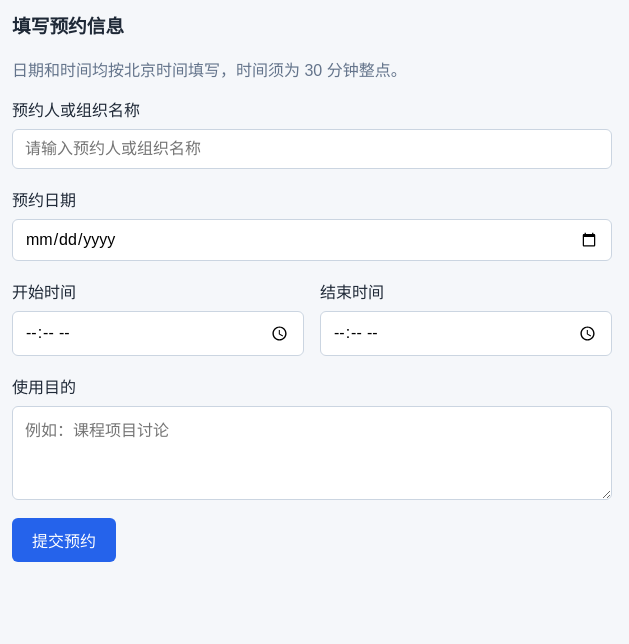
Test: ReservationForm › shows API fieldErrors under the matching inputs
Type "学习小组" into the field with id "bookerName".
click(312, 149); type("学习小组")  # box [12, 129, 612, 169]
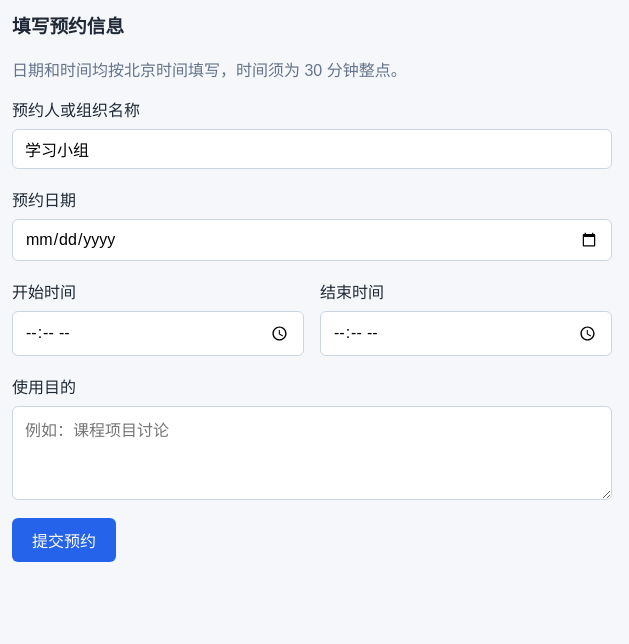
Type "2099-01-15" into the date field with id "reservationDate".
click(312, 240); type("2099-01-15")  # box [12, 219, 612, 261]
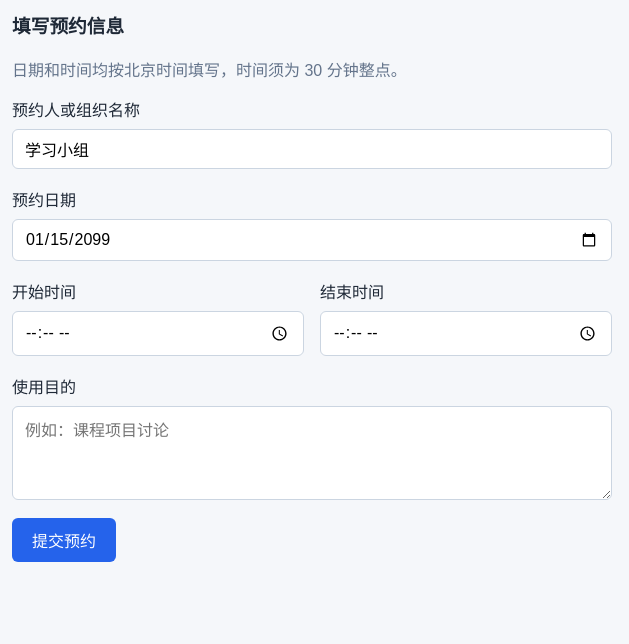
Type "14:00" into the time field with id "startTime".
click(158, 333); type("14:00")  # box [12, 311, 304, 356]
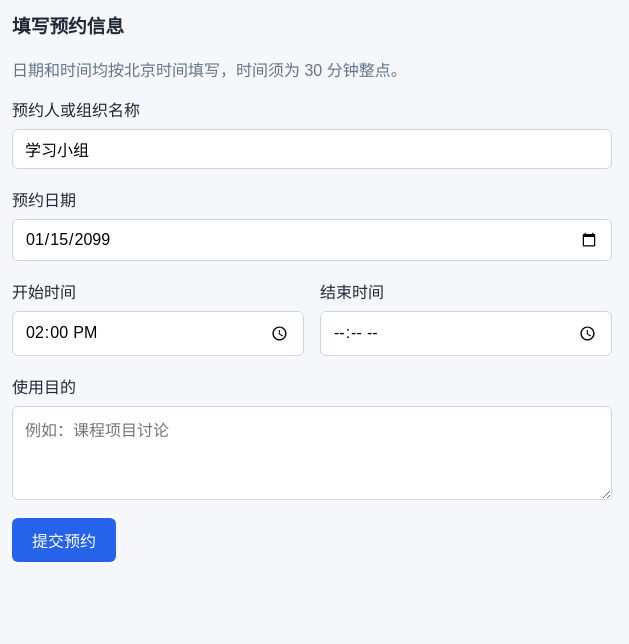
Type "15:00" into the time field with id "endTime".
click(466, 333); type("15:00")  # box [320, 311, 612, 356]
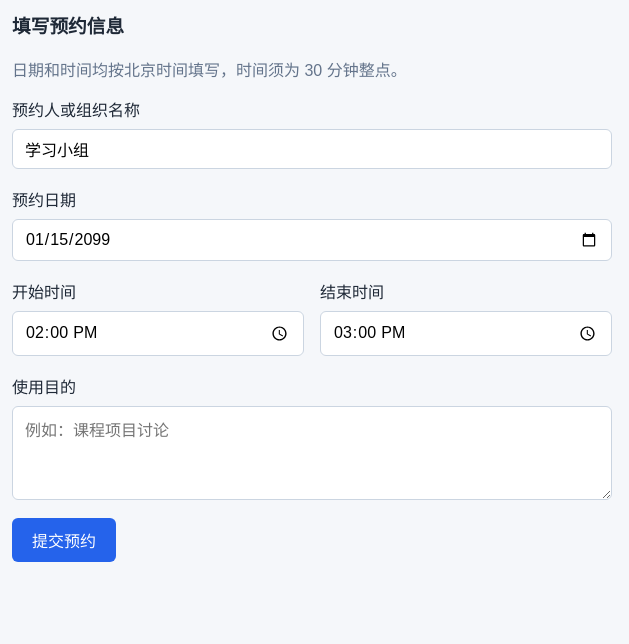
Type "课程讨论" into the text box labelled "使用目的".
click(312, 452); type("课程讨论")  # box [12, 406, 612, 500]
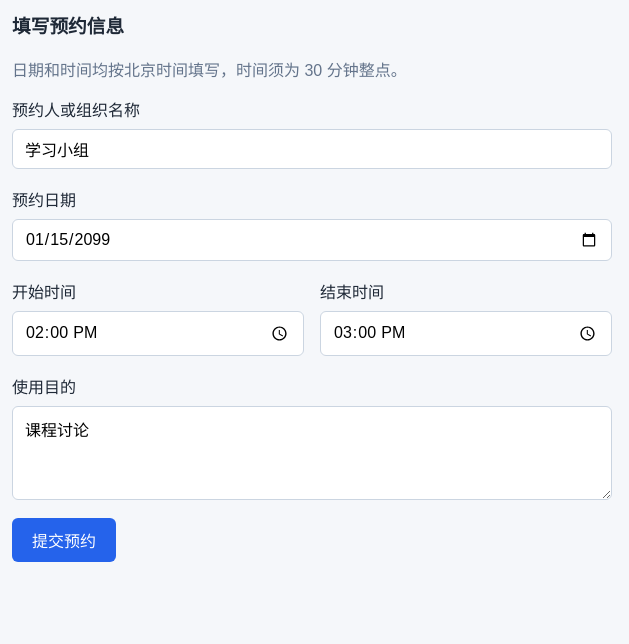
Submit the form
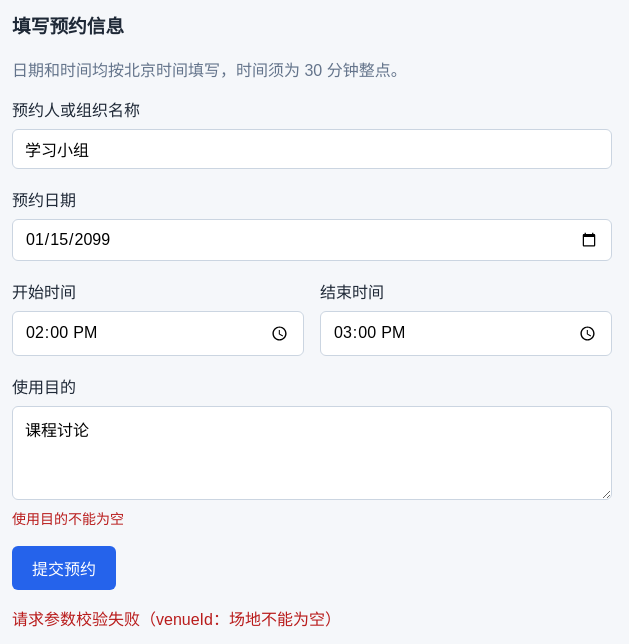
Expected: the text with id "error-purpose" reads "使用目的不能为空", [12, 510, 124, 526]
Expected: the message "请求参数校验失败（venueId：场地不能为空）" is shown, [12, 610, 341, 628]
